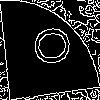O: (25, 25, 72, 68)
